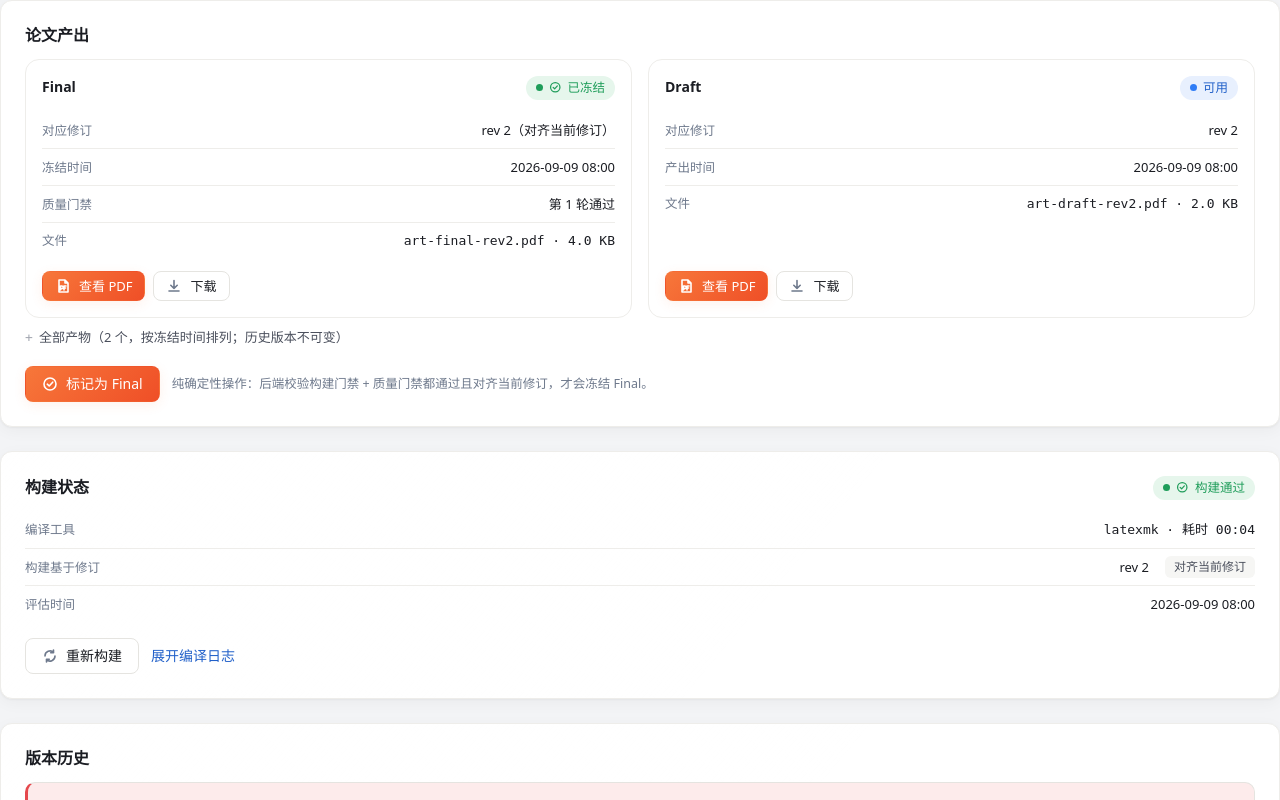
it: PaperPanel：标记 Final（资格由后端判定） › 点击 → POST finalize；成功后展示冻结的修订
Expected: the element with test id "final-card" is shown, x1=25 y1=59 x2=632 y2=318
Click the button with test id "finalize-button" at coordinates (92, 384), box x1=25 y1=366 x2=160 y2=402
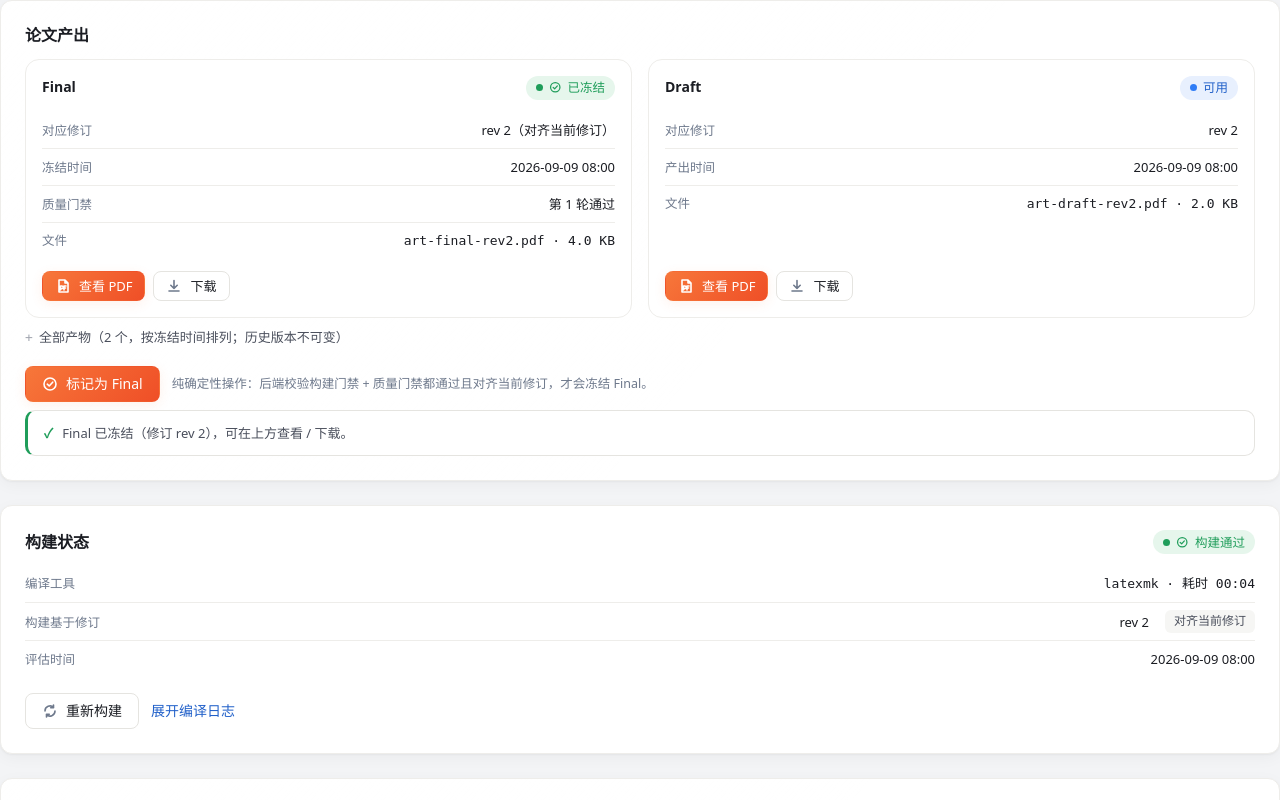
Expected: the message with test id "finalize-success" shows "rev 2", x1=25 y1=410 x2=1255 y2=456
